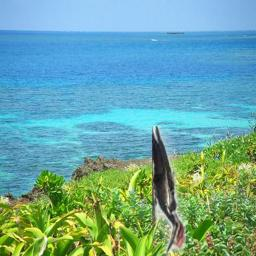Woodpecker: (152, 126, 186, 256)
